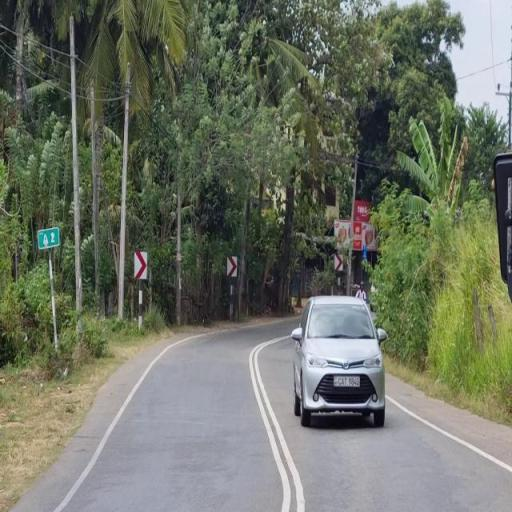double_white_line: (248, 335, 301, 511)
